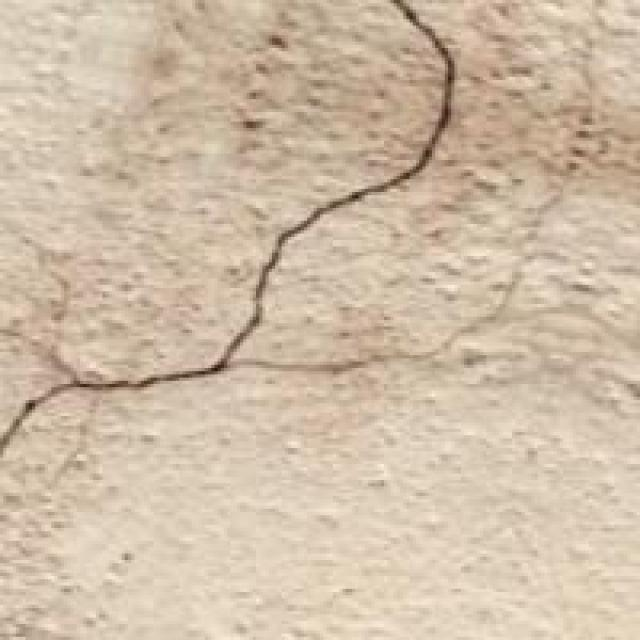crack: (3, 0, 492, 454)
